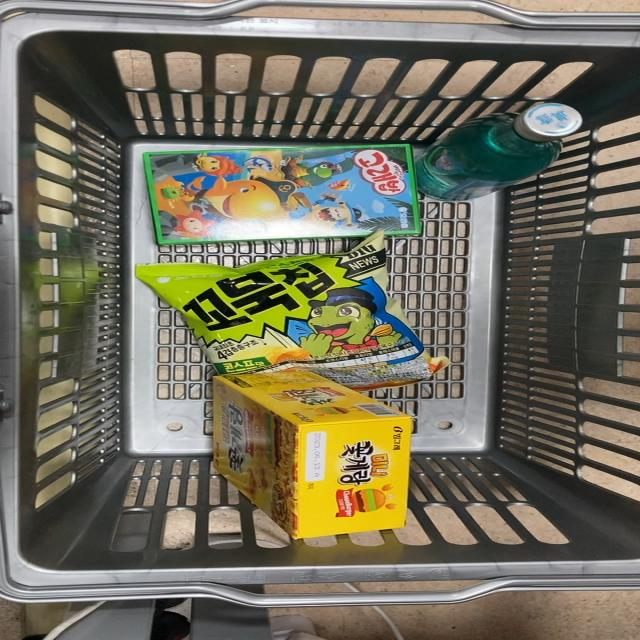ggobukchip: (131, 240, 461, 376)
goraebob: (134, 131, 438, 254)
jinro: (443, 94, 605, 222)
minicrab: (188, 360, 413, 532)
